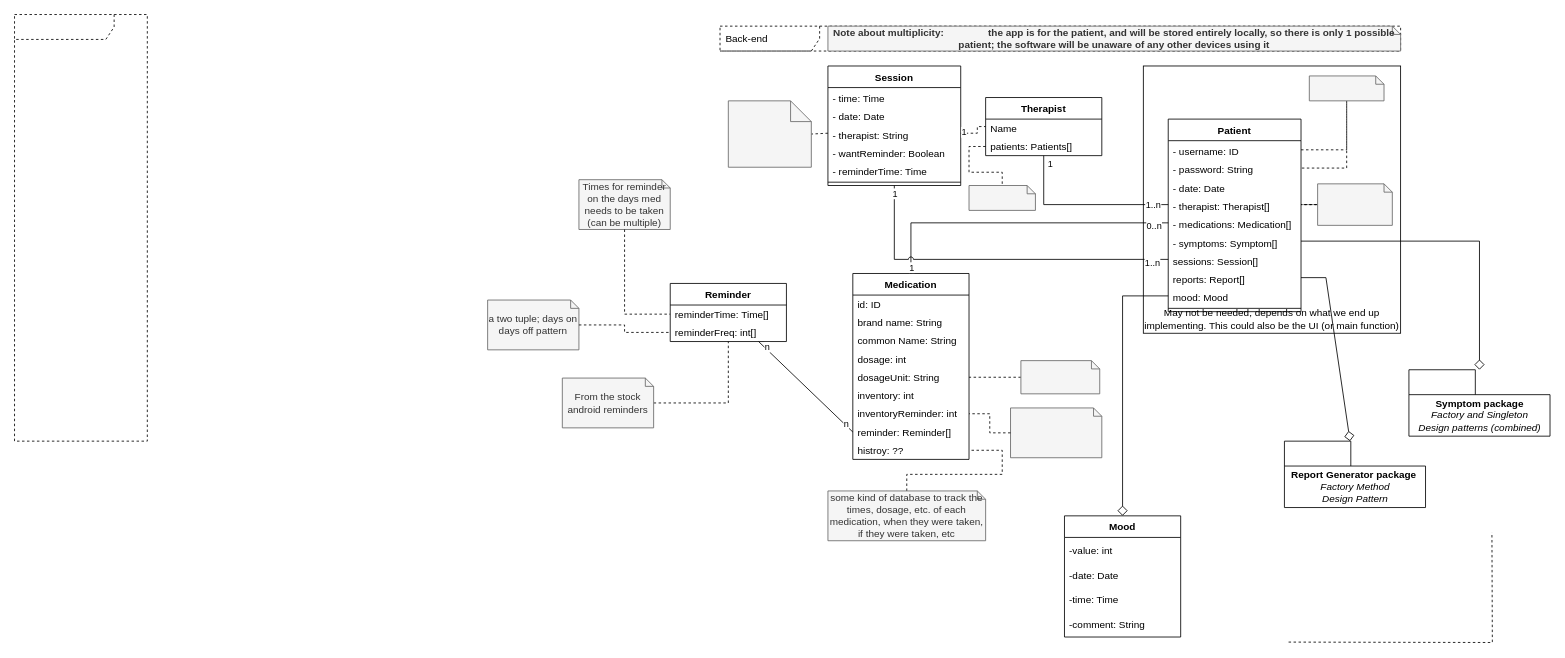
This 1565x658 diagram has some shape labels left out. Here are the shapes that lost their labels. From the top down, the centre of each, then its label:
pixel 1346 88: Login: Want Feature
pixel 769 133: Therapist name as manual input because data is only stored locally
pixel 1001 197: may be unnecessary
pixel 1354 204: Patients can have multiple therapists
pixel 80 227: Front-end (UI)
pixel 1060 377: dosage unit can be ml, mg, g, etc
pixel 1056 432: When to give reminder, how many left in inventory
